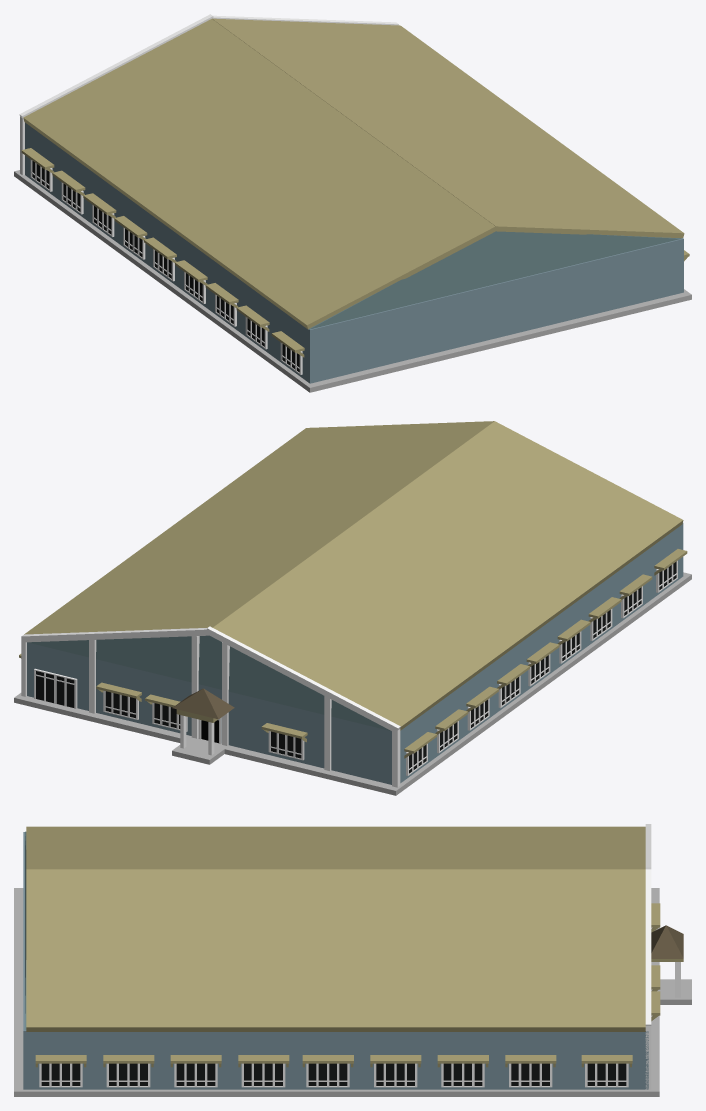
Rendered from AUPHealthCenter.glb.
3 renders of one model, top to bottom at view 1: azimuth 30°, elevation 25°; view 2: azimuth 150°, elevation 25°; view 3: azimuth 270°, elevation 25°, orthographic. The views are drawn at different scales.
Visible parts, largest first — view 1: cube.029; view 2: cube.029; view 3: cube.029.
Part boxes in pixels (left/top/right/bottom): cube.029: left=14, top=14, right=691, bottom=392; cube.029: left=14, top=421, right=691, bottom=795; cube.029: left=14, top=824, right=691, bottom=1096.
Size of the model in its own units: 10.59 by 3.02 by 14.44.
Materials: 8 (8 with a texture image).
